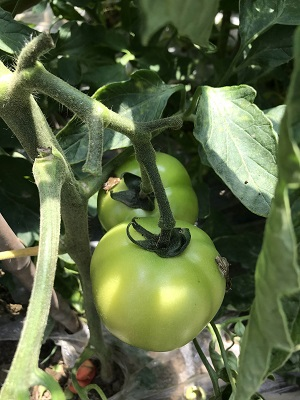immature-tomato: (92, 222, 224, 345), (102, 157, 196, 223)
